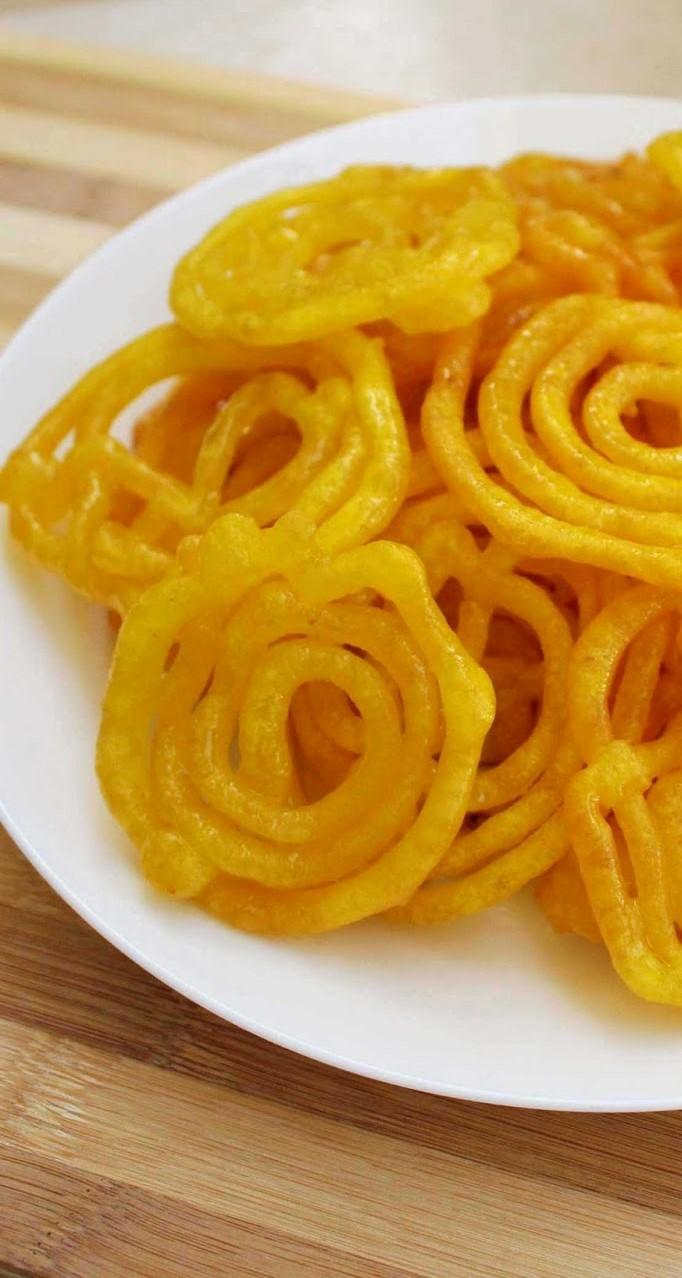Jalebi: (0, 125, 682, 1013)
